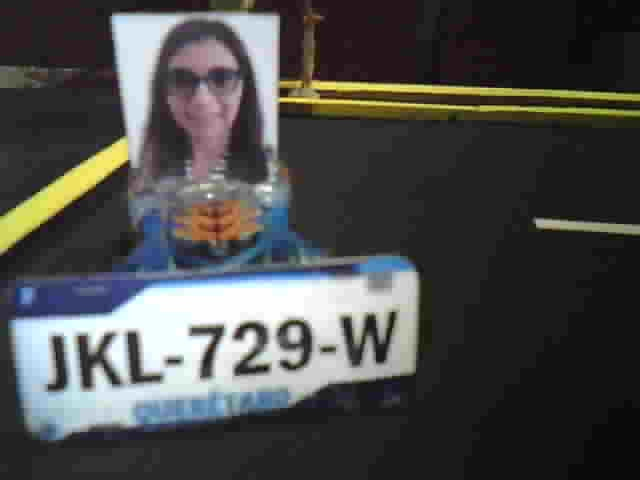PLACA: (3, 252, 423, 452)
ROSTRO: (129, 13, 279, 189)
